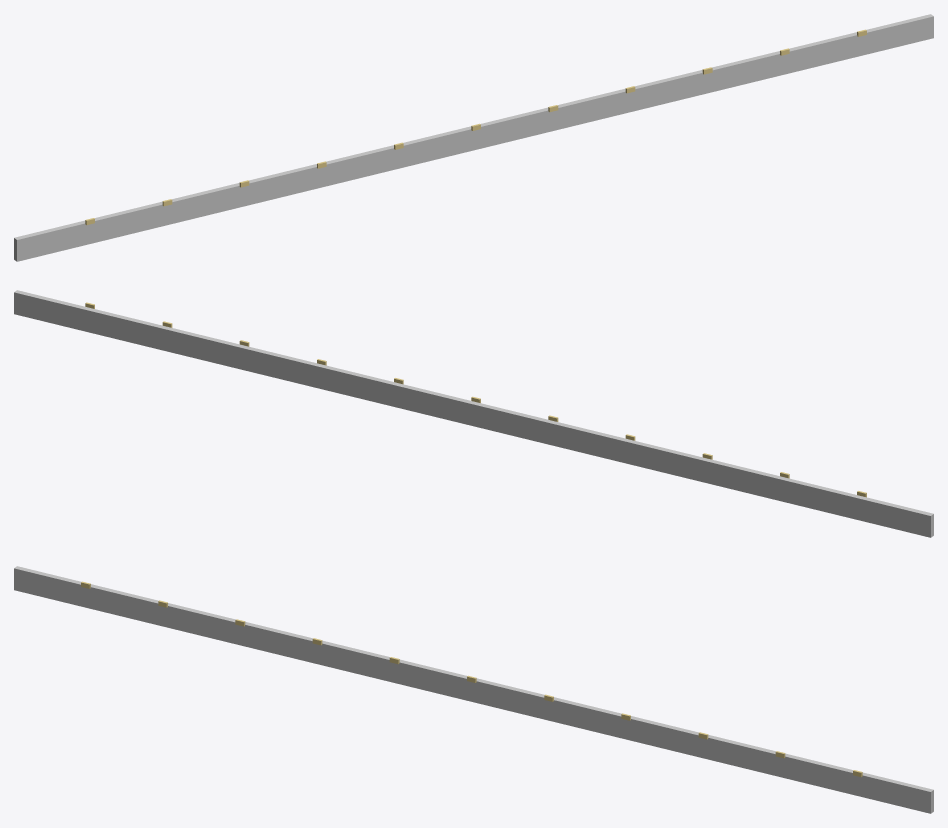
Rendered from banda_jugador.glb.
3 renders of one model, top to bottom at view 1: azimuth 30°, elevation 25°; view 2: azimuth 150°, elevation 25°; view 3: azimuth 330°, elevation 25°, orthographic.
Parts seen in each view (by area): view 1: banda_jugador; view 2: banda_jugador; view 3: banda_jugador.
Part boxes in pixels (bbox=[...]): banda_jugador: bbox=[14, 14, 933, 261]; banda_jugador: bbox=[14, 290, 933, 537]; banda_jugador: bbox=[14, 566, 933, 813].
Bounding box in the file's own units: 11.88 × 0.3125 × 0.097.
